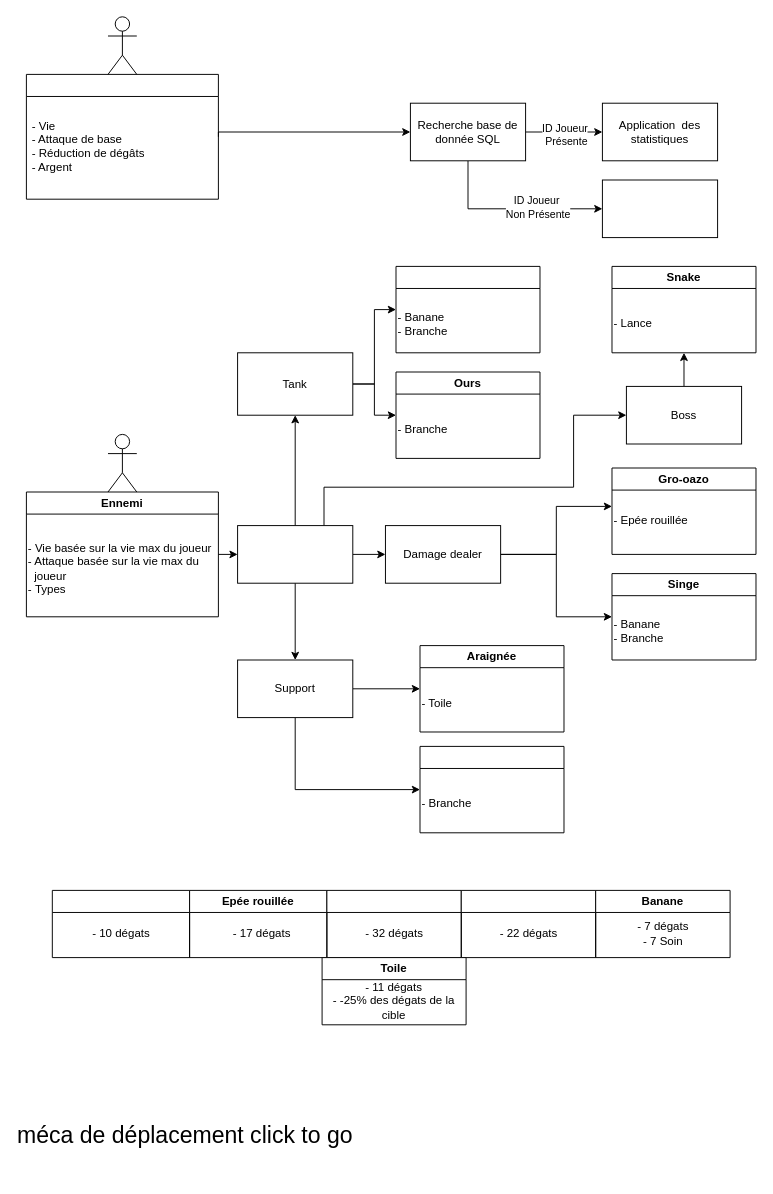
The diagram is 773 pixels wide and 1194 high, and some of its shapes have lost their labels. Here are the shapes that lost their labels. From the top down, the box of each, then its label:
(25, 73, 218, 199): Joueur
(601, 179, 718, 238): Création de la table du joueur
(395, 265, 540, 353): Gorille
(237, 525, 353, 583): Types
(419, 745, 564, 833): Oazo
(51, 889, 190, 958): Branche
(326, 889, 461, 958): Hache de fer
(460, 889, 596, 958): Lance
